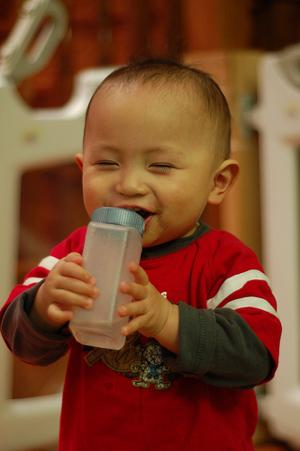person: (2, 58, 283, 450)
